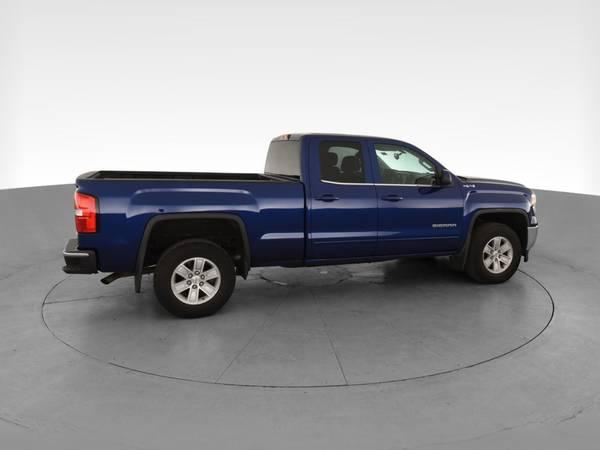Front_Bumper: (528, 225, 541, 257)
Front_Fender: (460, 182, 537, 251)
Front_Right_Door: (376, 183, 462, 255)
Front_Right_Window: (372, 138, 461, 184)
Rear_Bumper: (60, 237, 99, 275)
Rear_Fender: (76, 177, 307, 273)
Rear_Right_Door: (305, 182, 378, 264)
Rear_Right_Window: (304, 135, 376, 187)
Rear_Windshield: (263, 137, 305, 182)
Right_Taillight: (72, 193, 95, 235)
Wheel: (152, 239, 239, 319), (468, 223, 525, 283)
